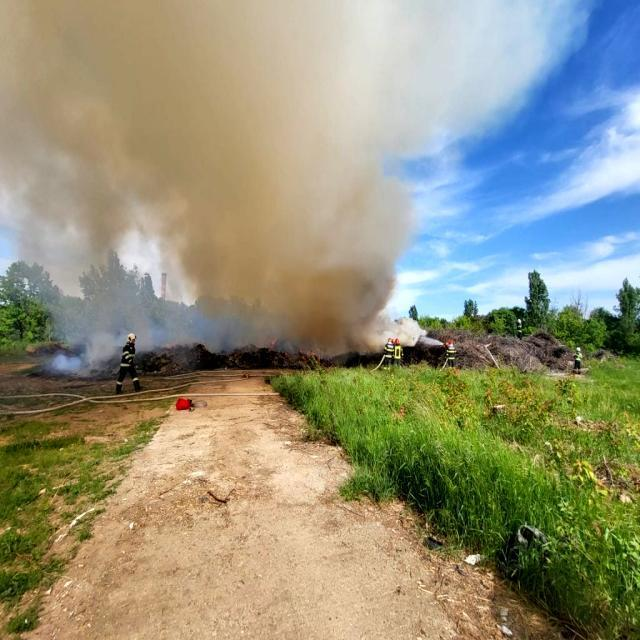Smoke: (0, 0, 452, 352)
